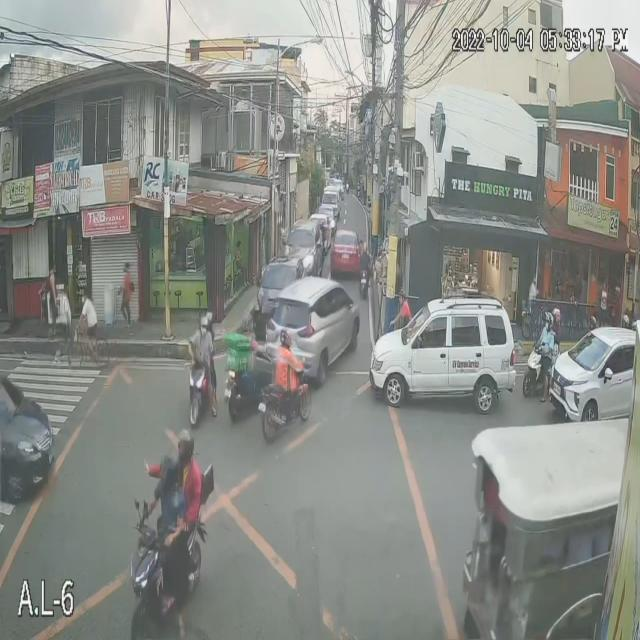Full-Faced: (174, 420, 198, 469), (154, 452, 180, 492), (277, 326, 296, 360), (550, 300, 561, 325)
Half-Faced: (540, 309, 556, 339)
Invalid: (197, 314, 212, 334)
